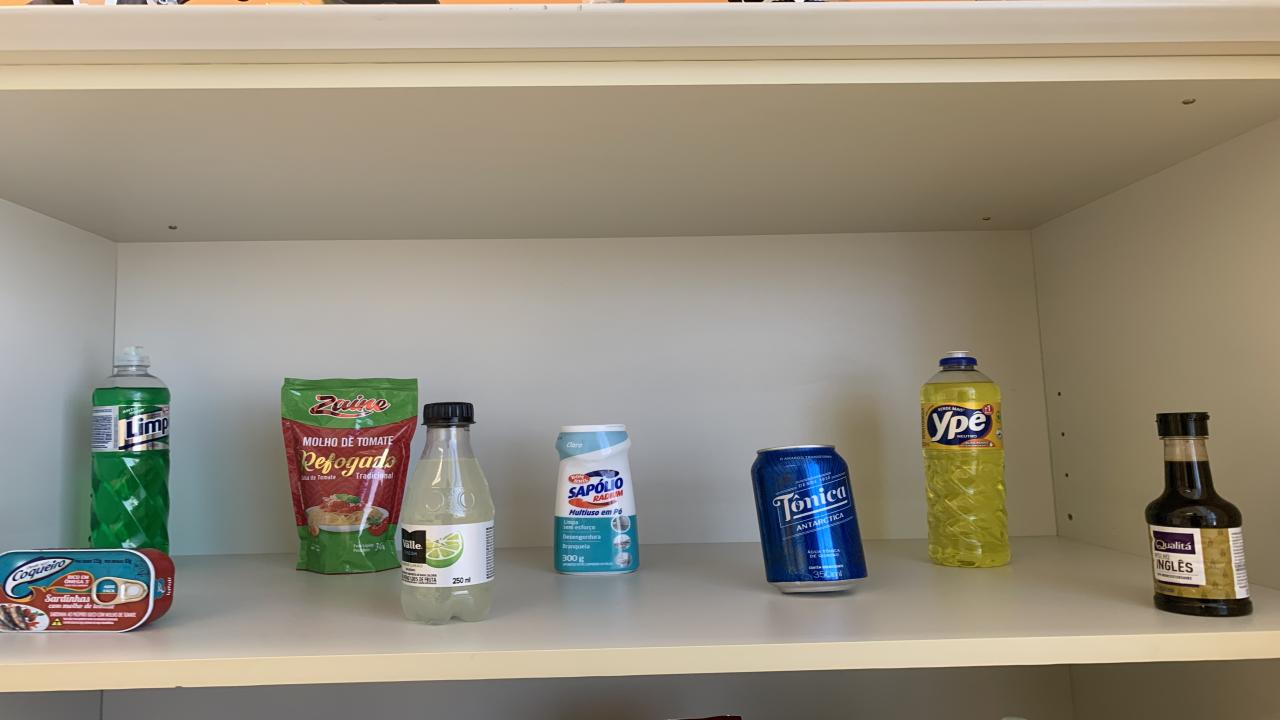Cleaner-Cleanup_Items: (555, 424, 640, 574)
Detergent-Cleanup_Items: (920, 354, 1010, 568), (90, 347, 170, 553)
English_Sauce-Pantry_Items: (1145, 412, 1252, 617)
Soda-Drinks: (400, 403, 495, 624)
Tomato_Sauce-Pantry_Items: (282, 379, 418, 574)
Tonic-Drinks: (752, 444, 868, 592)
Tuna_Can-Pantry_Items: (0, 549, 175, 632)
